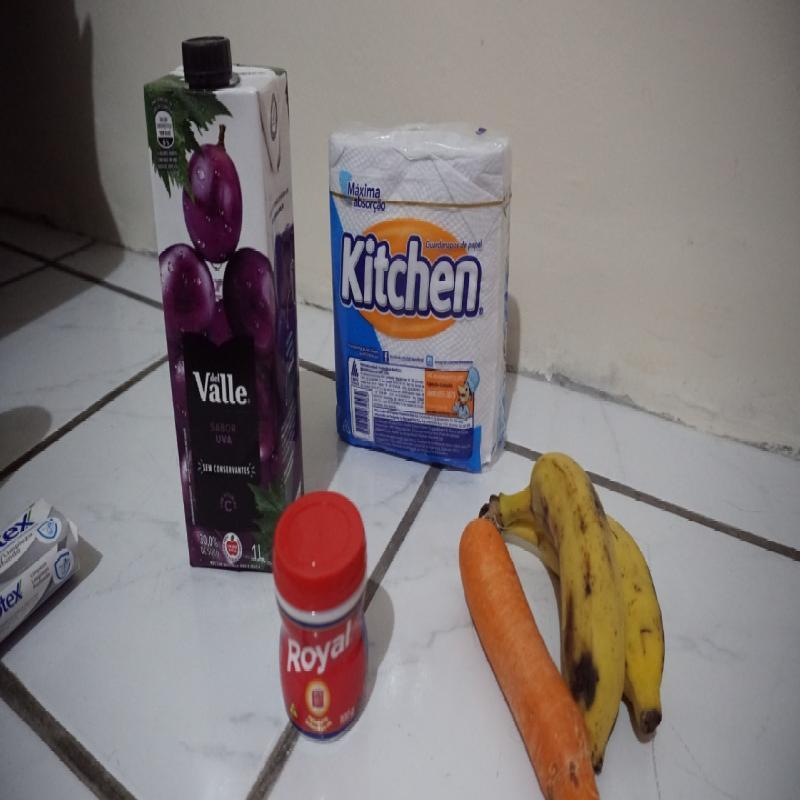Banana: (478, 451, 668, 770)
Carrot: (459, 514, 600, 798)
Napkin: (328, 109, 515, 470)
Soap: (0, 491, 82, 652)
Yeast: (272, 489, 372, 739)
